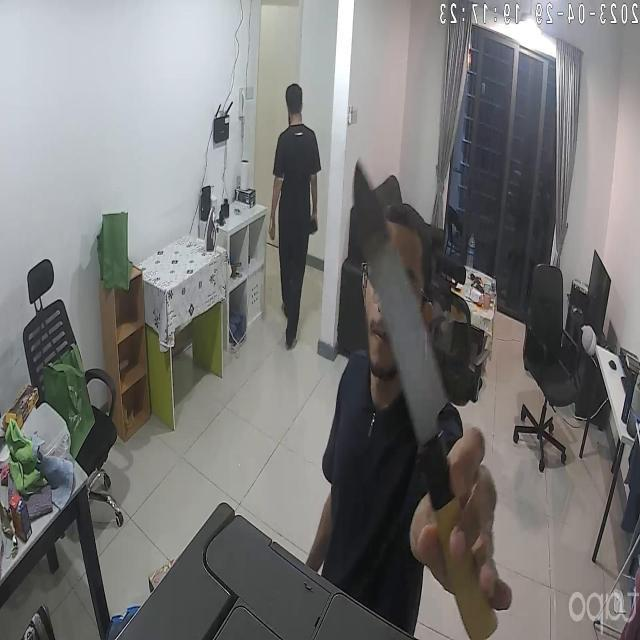Knife: (335, 156, 510, 564)
